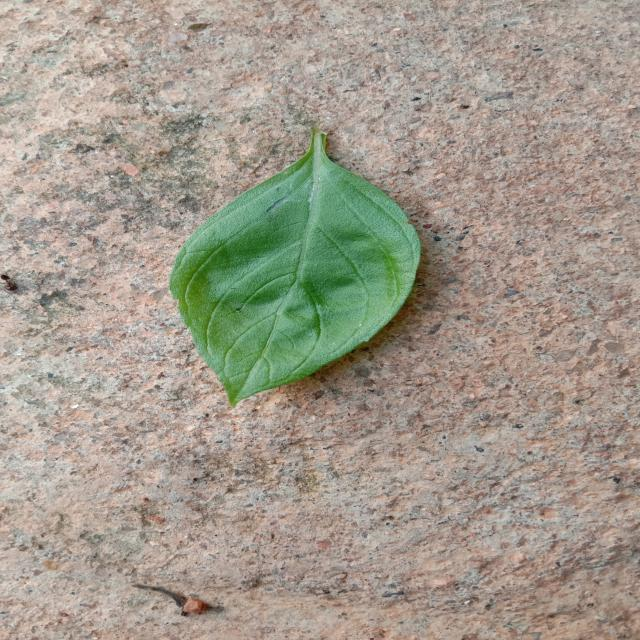kamakasturi: (170, 128, 420, 405)
